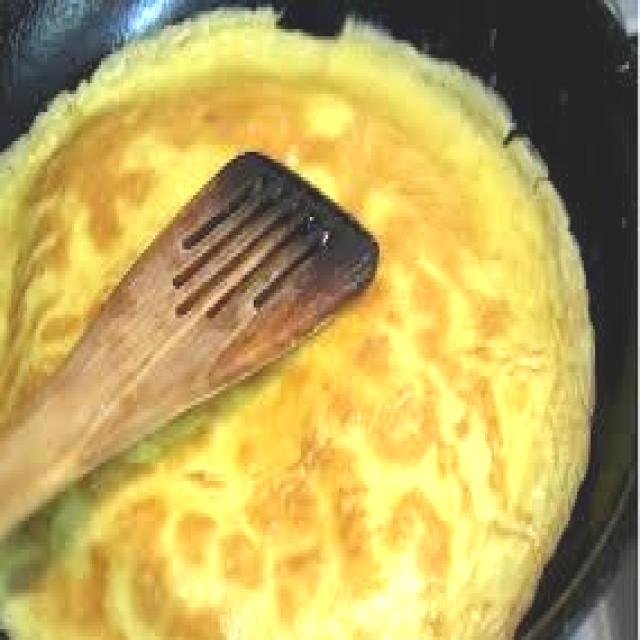omelette: (0, 32, 571, 636)
